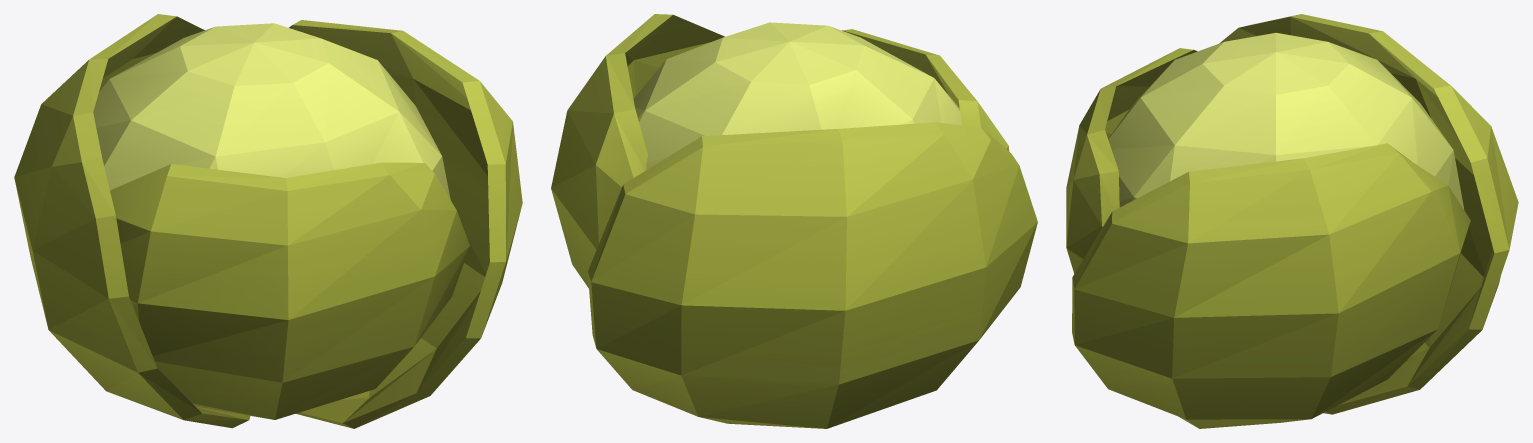
Rendered from crop_cabbage_stage2.glb.
3 views of the same model, side by side, from view 1: azimuth 30°, elevation 25°; view 2: azimuth 150°, elevation 25°; view 3: azimuth 270°, elevation 25° (orthographic). The views are drawn at different scales.
Parts seen in each view (by area): view 1: crop_cabbage_stage2; view 2: crop_cabbage_stage2; view 3: crop_cabbage_stage2.
Boxes of the visible parts, x1,y1,x2,y2 form: crop_cabbage_stage2: (14,14,522,428); crop_cabbage_stage2: (551,14,1037,428); crop_cabbage_stage2: (1066,14,1518,428).
Size of the model in its own units: 0.2079 by 0.17 by 0.2013.
1 material, 1 textured.
